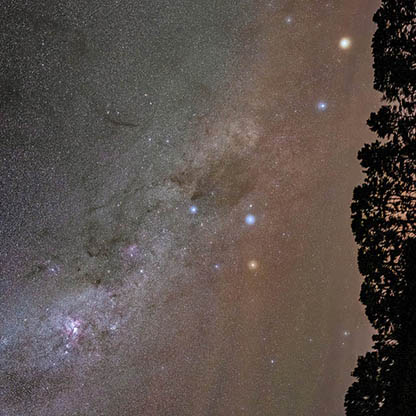Southern Cross: (240, 211, 261, 232), (182, 200, 203, 220), (244, 254, 264, 275), (210, 259, 225, 277)
